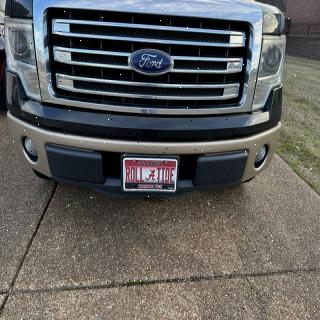license: (124, 159, 179, 193)
